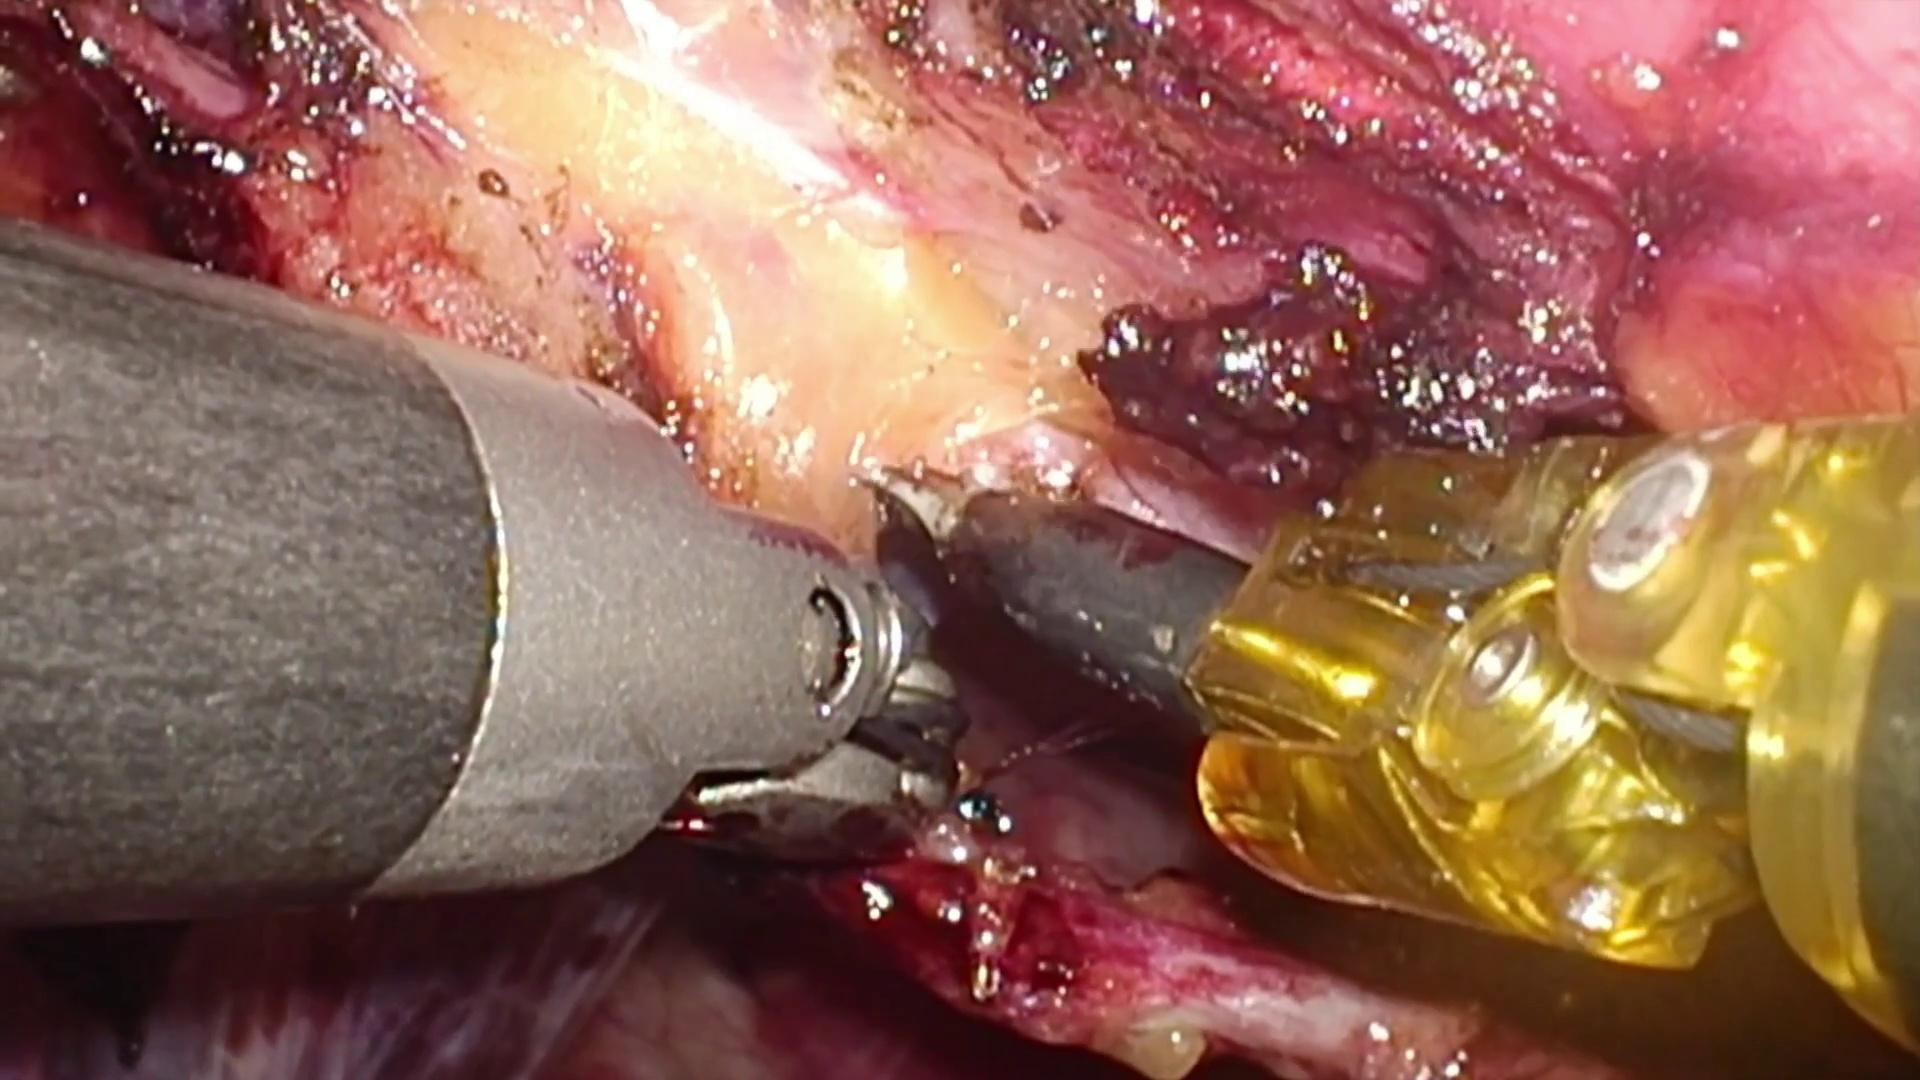Cautery_Spatula: (856, 456, 1254, 724)
